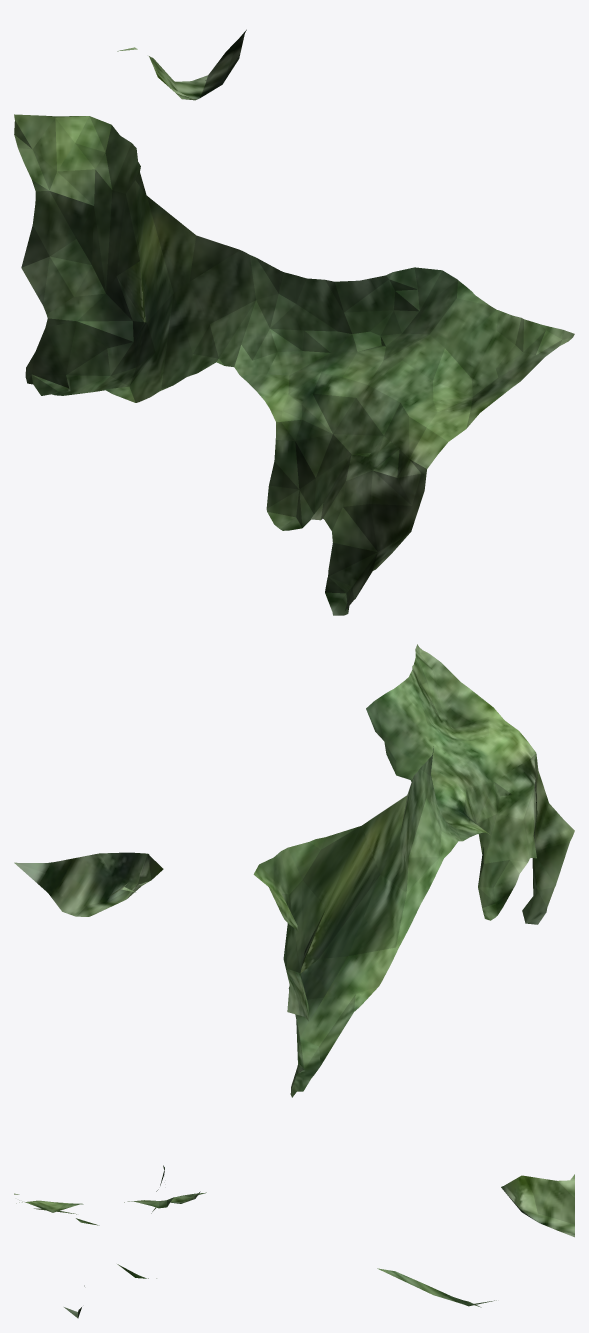
The picture shows the model from 3 angles, top to bottom: view 1: azimuth 30°, elevation 25°; view 2: azimuth 150°, elevation 25°; view 3: azimuth 270°, elevation 25°; orthographic projection. The views are drawn at different scales.
Size of the model in its own units: 2.47 by 2.17 by 5.9.
Materials: 1 (1 with a texture image).
